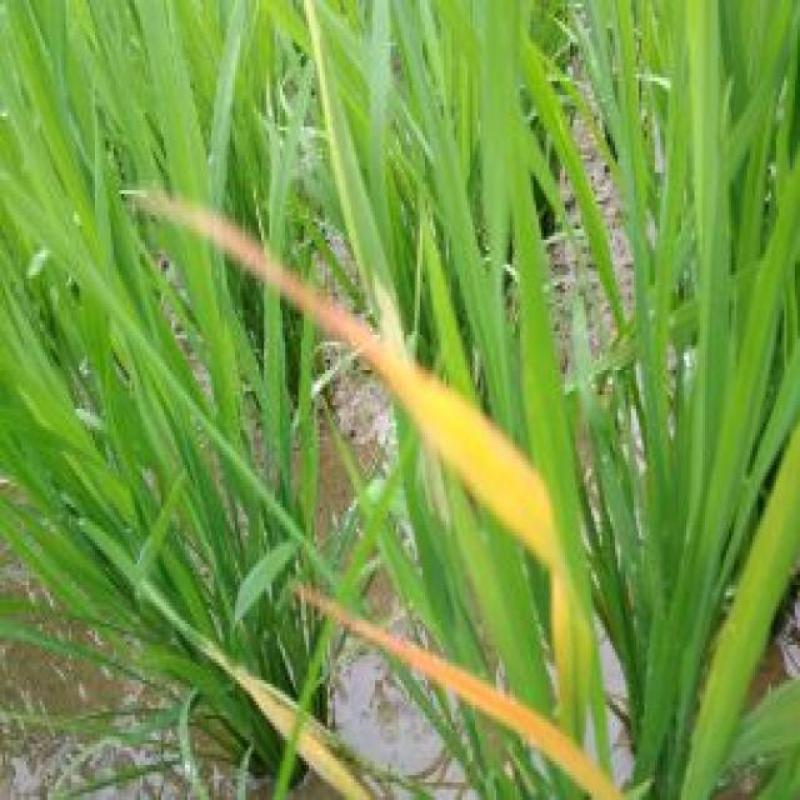Rice Tungro: (130, 220, 554, 521)
